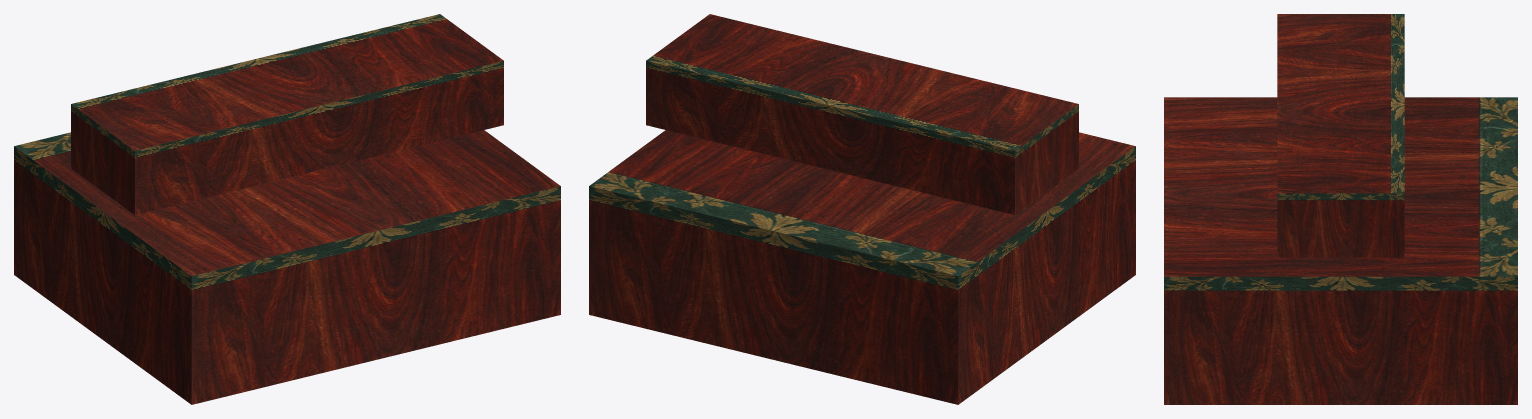
The model's file is telephone.gltf.
3 renders of one model, left to right at view 1: azimuth 30°, elevation 25°; view 2: azimuth 150°, elevation 25°; view 3: azimuth 270°, elevation 25°, orthographic.
Visible parts, largest first — view 1: kit:0:furniture:bronze:; view 2: kit:0:furniture:bronze:; view 3: kit:0:furniture:bronze:.
Part boxes in pixels (x1,y1,x2,y2): kit:0:furniture:bronze:: (14,14,560,404); kit:0:furniture:bronze:: (589,14,1135,404); kit:0:furniture:bronze:: (1164,14,1517,404).
Bounding box in the file's own units: 0.3 × 0.165 × 0.25.
1 material, 1 textured.
